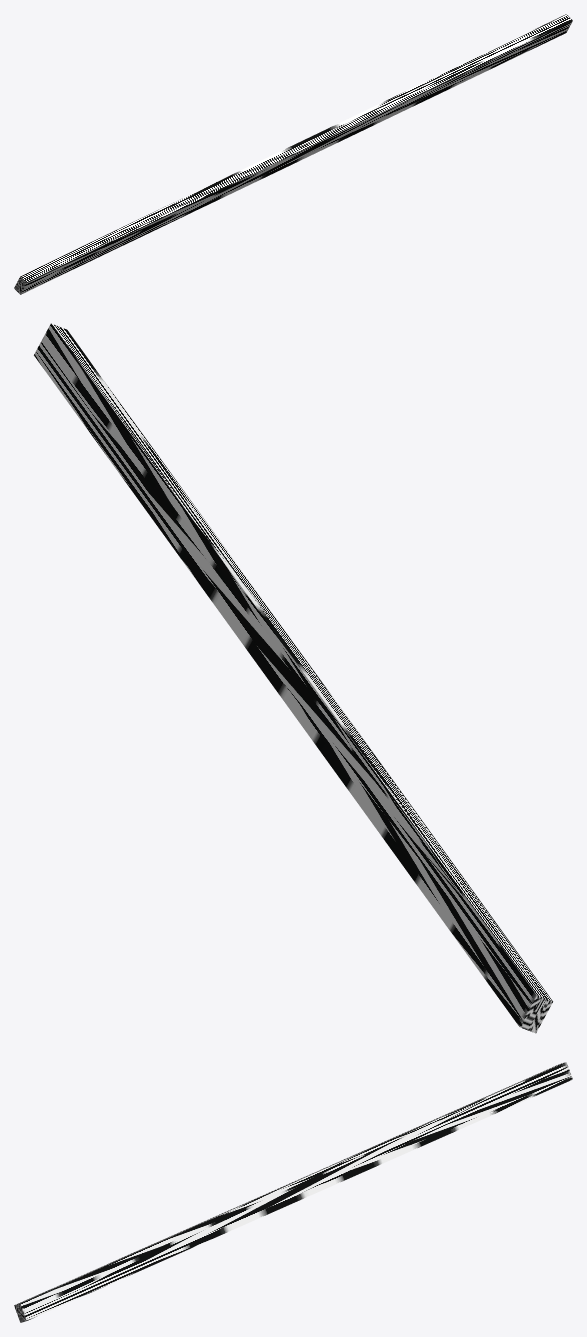
3 renders of one model, top to bottom at view 1: azimuth 90°, elevation 25°; view 2: azimuth 150°, elevation 25°; view 3: azimuth 270°, elevation 25°, orthographic. The views are drawn at different scales.
Visible parts, largest first — view 1: Cube.035; view 2: Cube.035; view 3: Cube.035.
Part boxes in pixels (left/top/right/bottom): Cube.035: left=14, top=14, right=572, bottom=294; Cube.035: left=34, top=323, right=552, bottom=1033; Cube.035: left=14, top=1062, right=572, bottom=1322.
Size of the model in its own units: 18.39 by 0.9793 by 16.91.
Materials: 1 (1 with a texture image).
